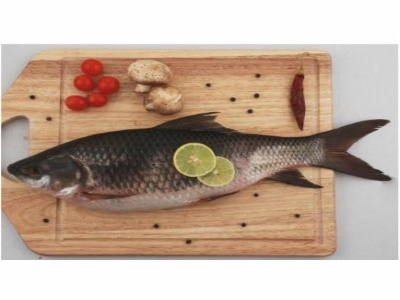rohu: (11, 103, 394, 218)
